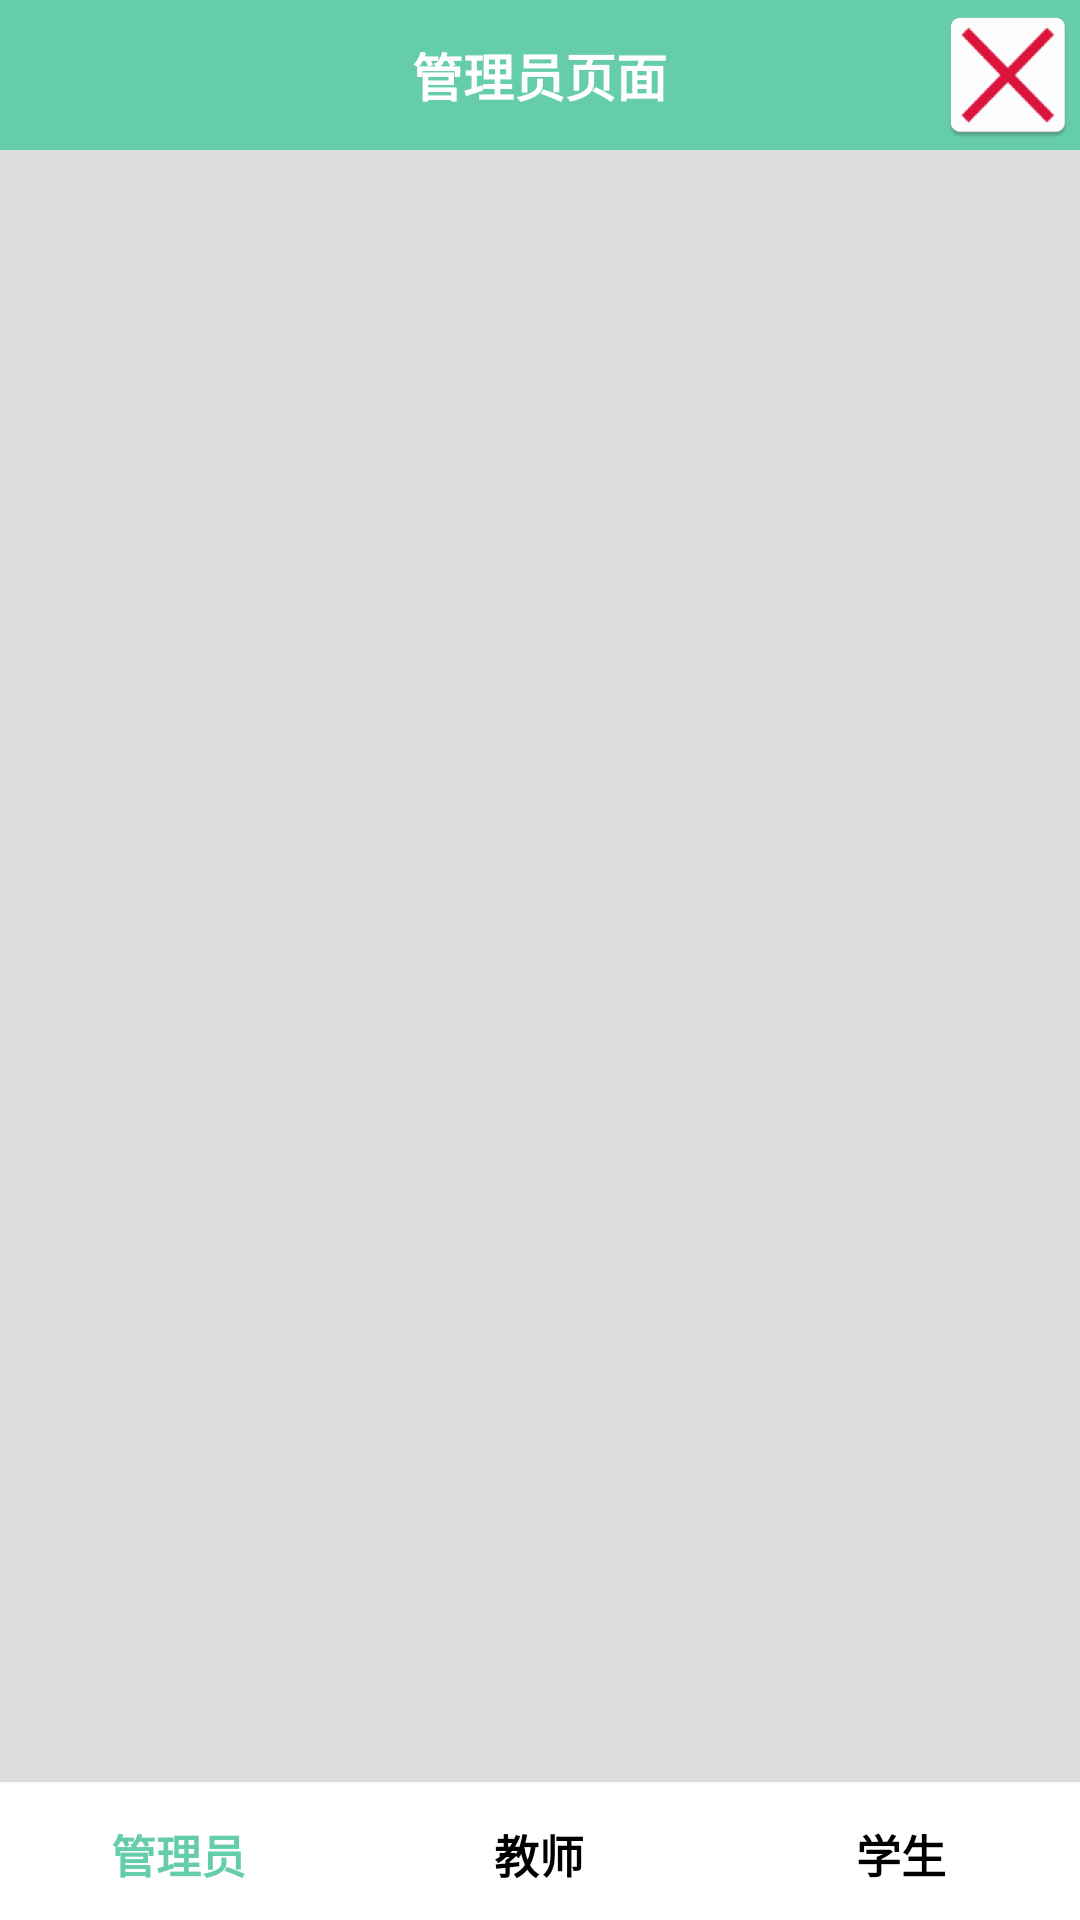

Named icons in this screenshot (1080px x 1920px) and their bounding boxes, rect(x1, y1, x2, y2):
close: rect(951, 18, 1065, 135)
